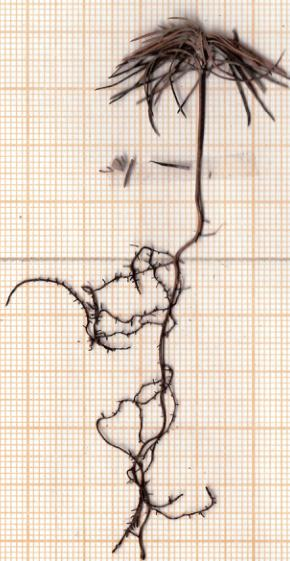flower: (97, 6, 290, 140)
root: (3, 240, 221, 561)
stem: (186, 77, 214, 245)
